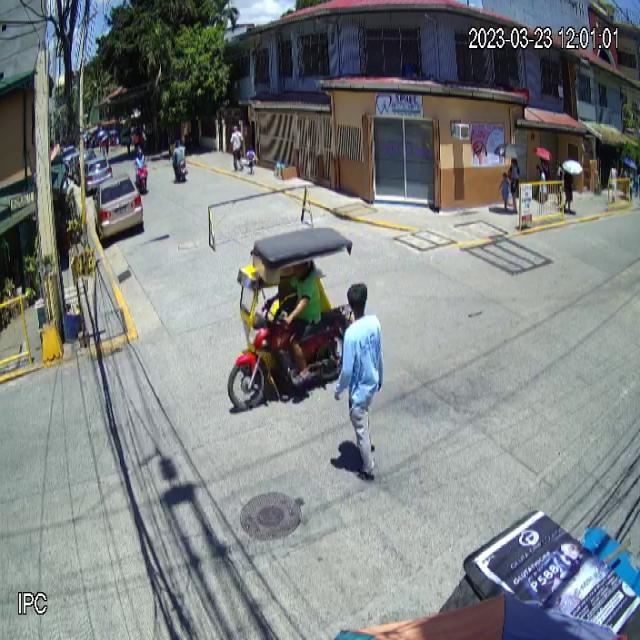Car: (92, 173, 142, 241)
Tricycle: (227, 225, 355, 415)
